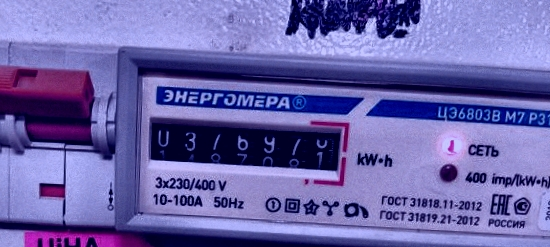0: (155, 125, 170, 147)
1: (312, 149, 325, 169)
3: (182, 129, 198, 151)
6: (234, 127, 250, 151)
7: (207, 127, 223, 151), (288, 133, 303, 156)
9: (260, 130, 276, 154)
screen: (137, 107, 351, 189)
